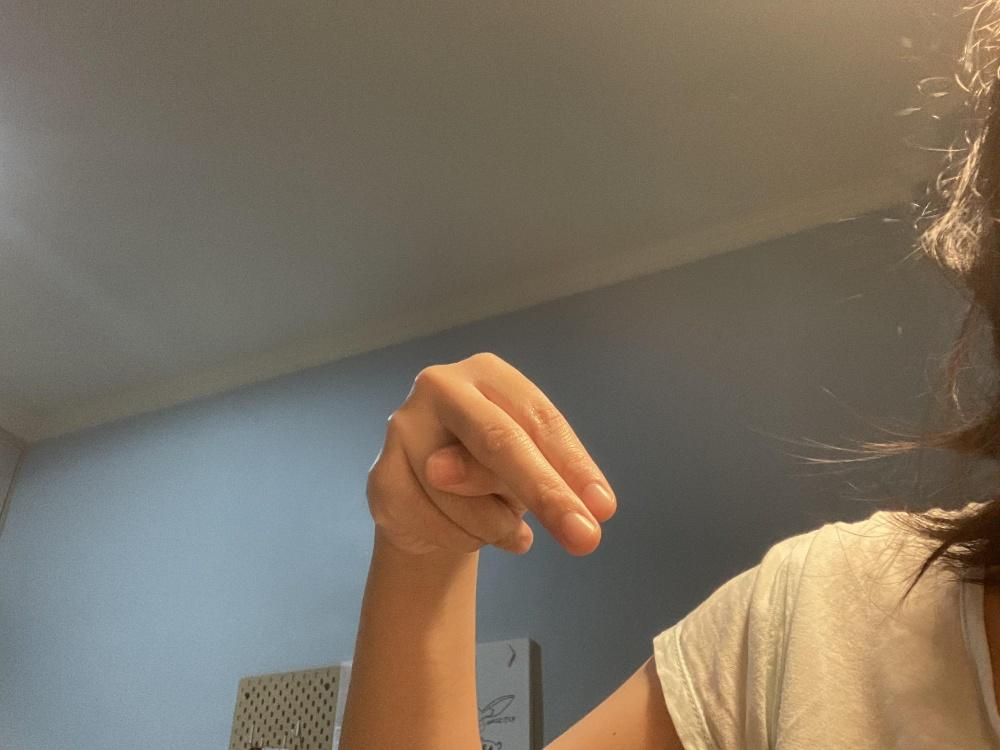n: (364, 351, 616, 555)
